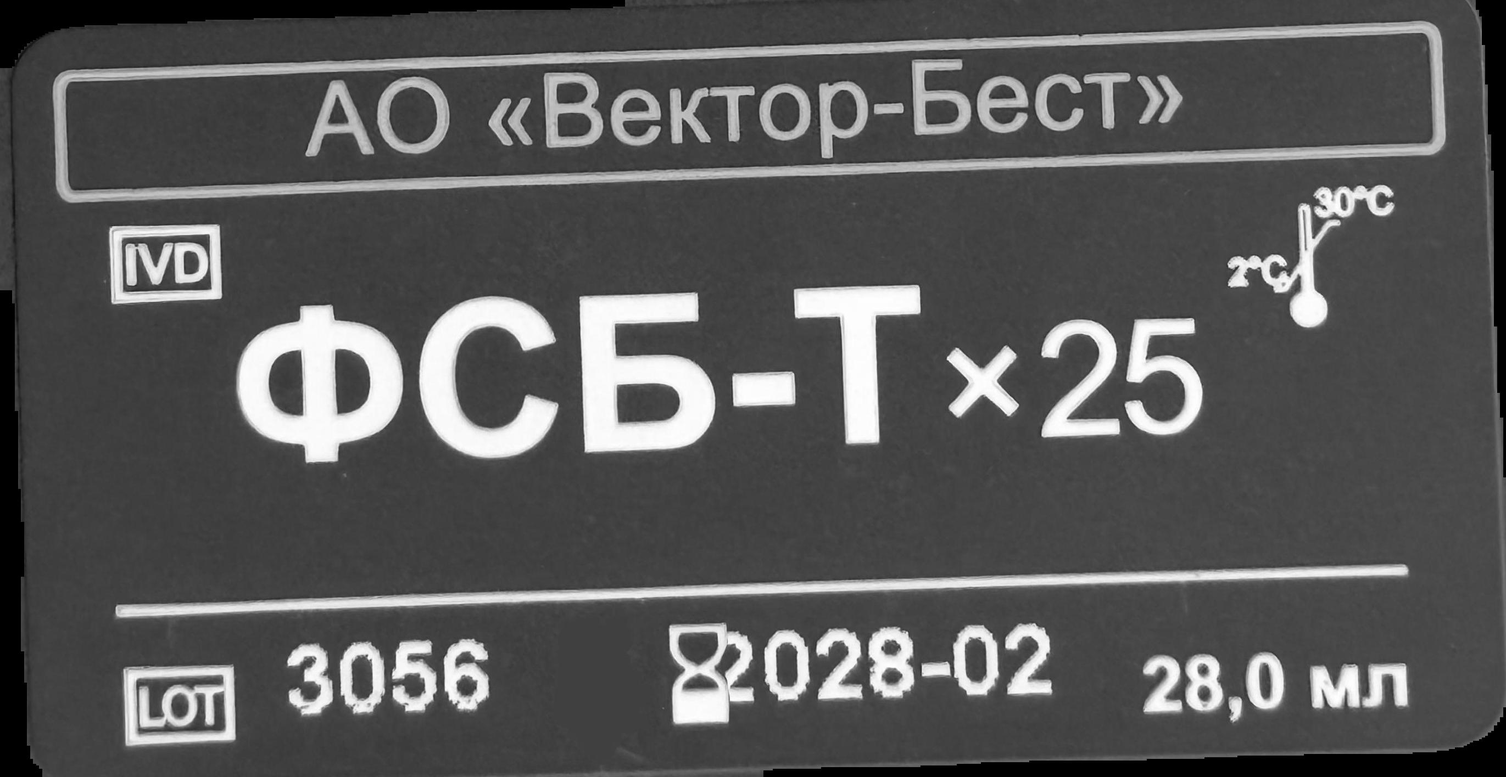something: (1226, 183, 1398, 334), (117, 661, 244, 747), (106, 223, 227, 307), (663, 620, 734, 730)
text: (229, 277, 1206, 471), (306, 52, 1190, 163), (720, 616, 1057, 714), (1137, 651, 1411, 723), (284, 635, 494, 722)
